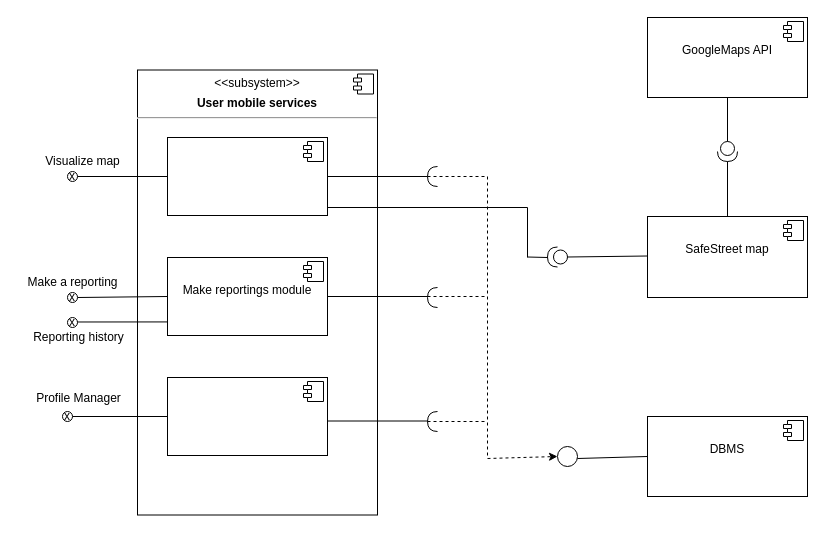
The diagram is 825 pixels wide and 533 high, and some of its shapes have lost their labels. Each missing label, with the centre of its shape:
"Account manager" belongs at (x=247, y=416).
"Map visualizer module" belongs at (x=247, y=176).
